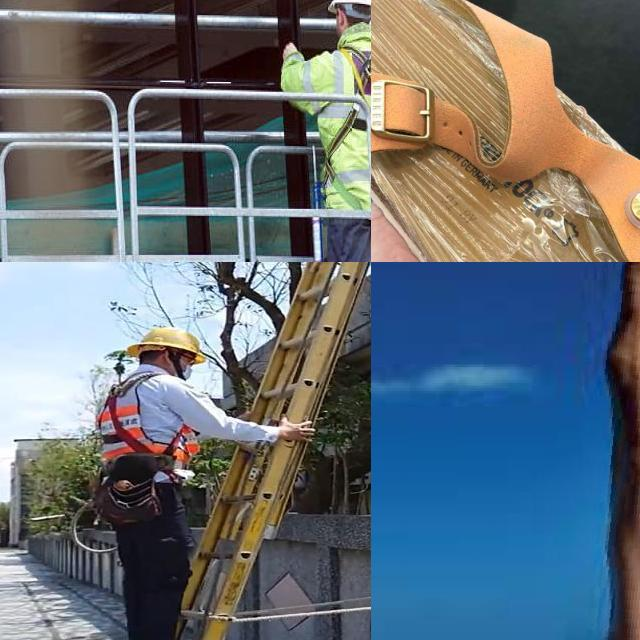Barefoots: (571, 262, 640, 640)
Harness: (81, 371, 199, 531), (322, 40, 371, 228)
Sandals: (371, 0, 640, 262)
